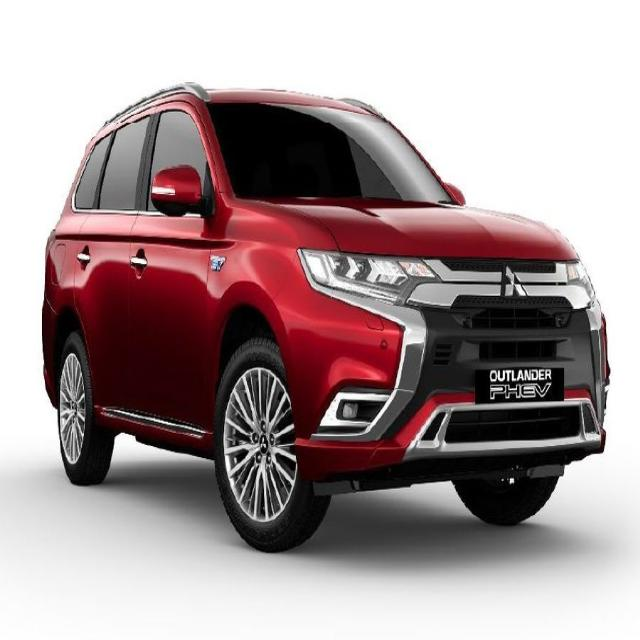light_vehicle: (40, 84, 610, 553)
